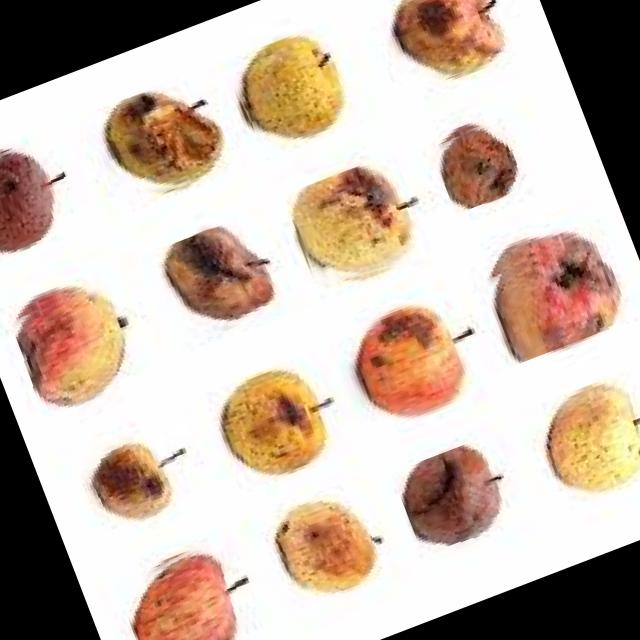Organic: (4, 271, 163, 436), (237, 480, 395, 640), (473, 219, 640, 367), (77, 71, 236, 217), (140, 212, 296, 360), (218, 13, 366, 162), (280, 154, 432, 298), (390, 429, 542, 572), (112, 532, 271, 640), (525, 365, 640, 512), (67, 416, 196, 546), (369, 0, 515, 96), (426, 105, 548, 215), (0, 128, 92, 264)
